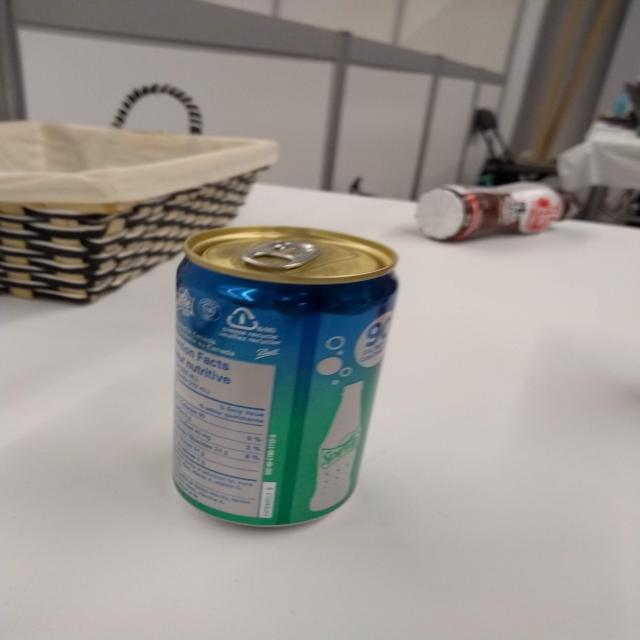chocolate_drink: (406, 177, 581, 246)
sprite: (159, 223, 405, 535)
